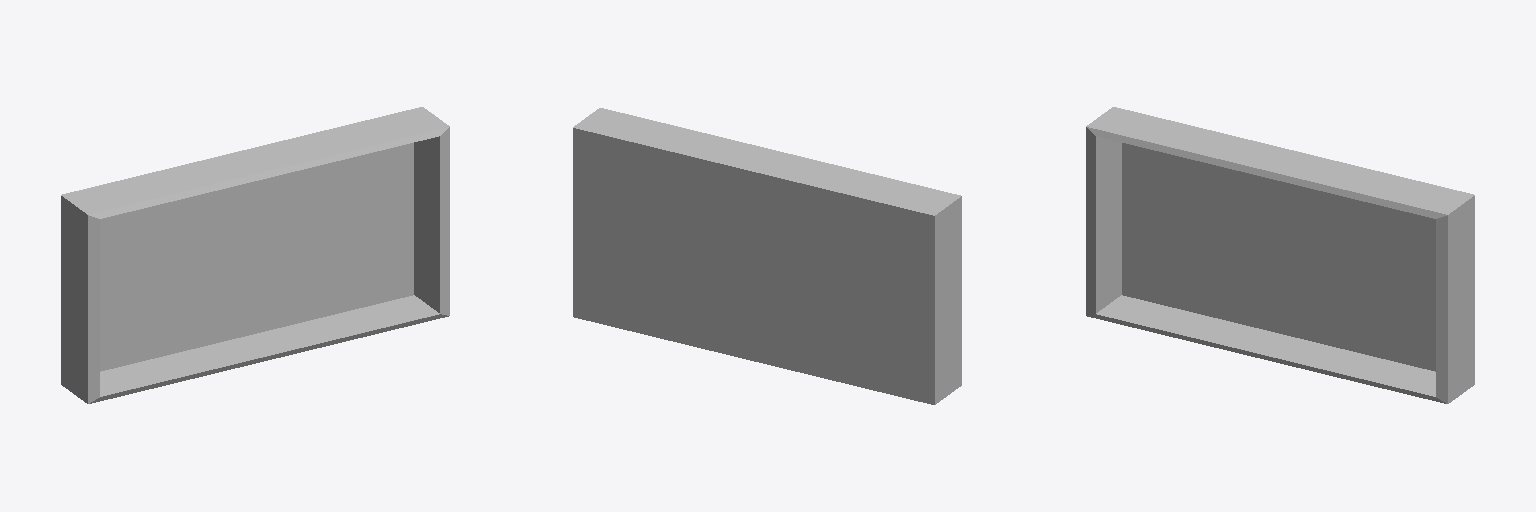
File: basin.obj
3 views of the same model, side by side, from view 1: azimuth 30°, elevation 25°; view 2: azimuth 150°, elevation 25°; view 3: azimuth 330°, elevation 25° (orthographic).
Size of the model in its own units: 266 by 133 by 36.66.